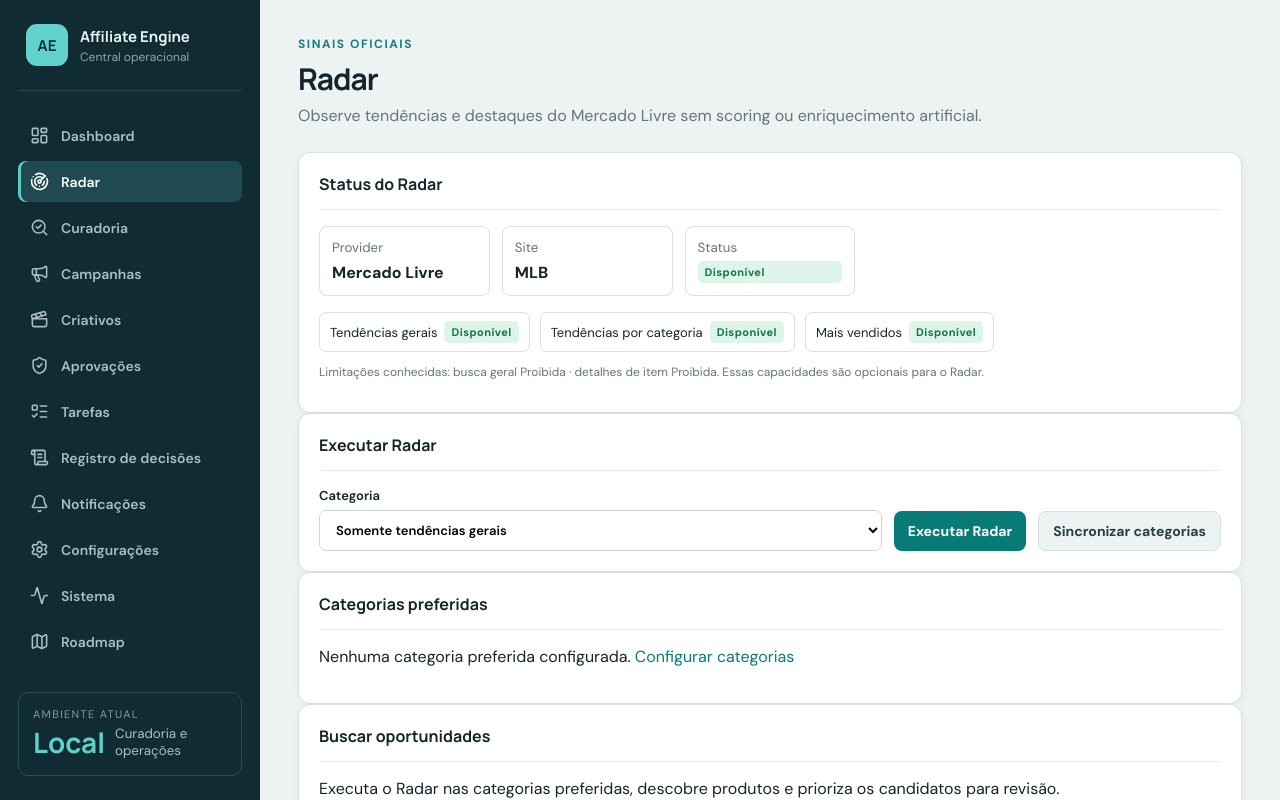
Test case: Radar › apresenta erro estruturado sem object Object
Expected: the heading "Radar" is shown, [298,58,378,99]
Click the button "Executar Radar" at (960, 531), box [894,511,1026,551]
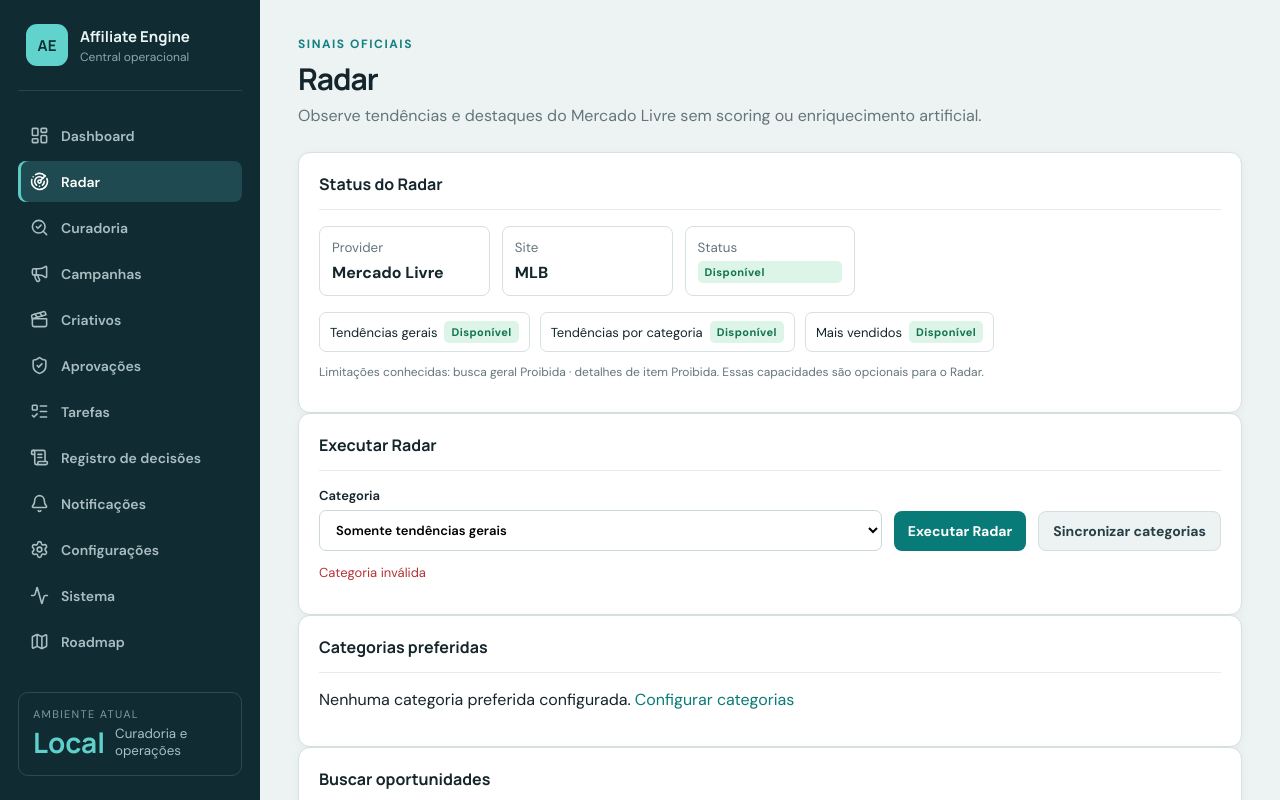
Expected: the message reads "Categoria inválida", [319,564,426,581]
